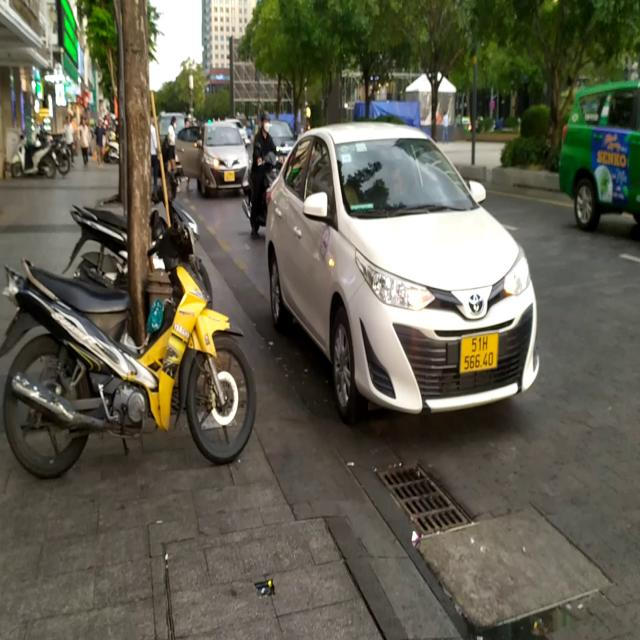bien_vang: (458, 330, 502, 375)
